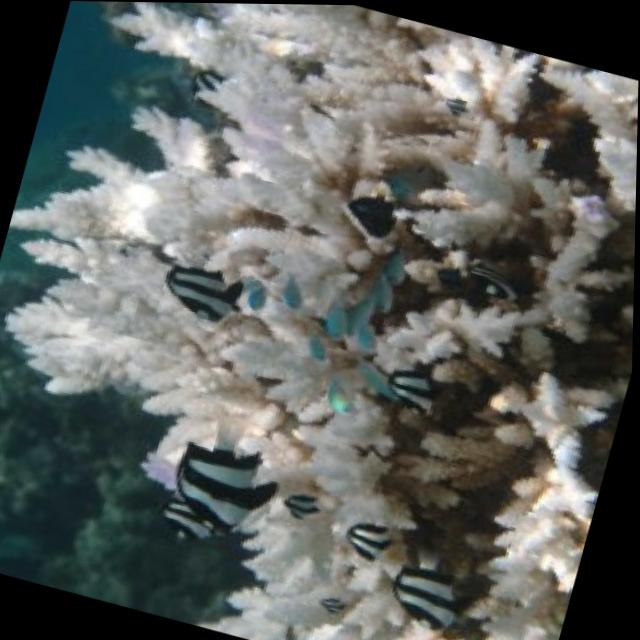Bleached Coral: (5, 0, 640, 434), (0, 286, 615, 640)
